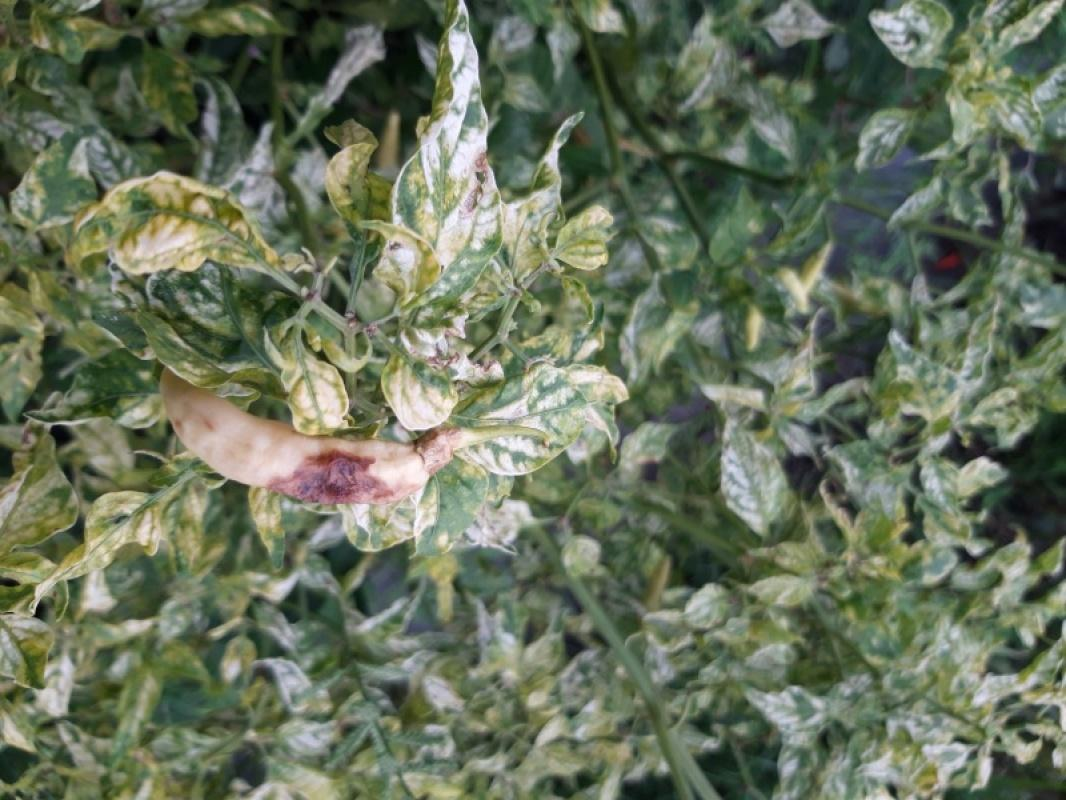antraknosa: (156, 364, 439, 507)
